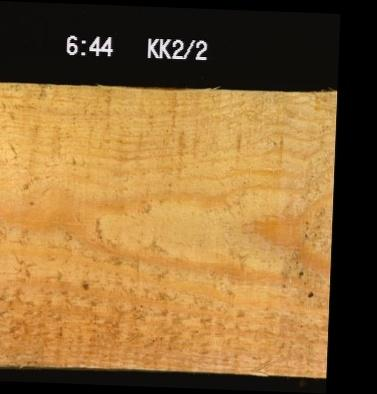small_knot: (79, 279, 89, 290)
